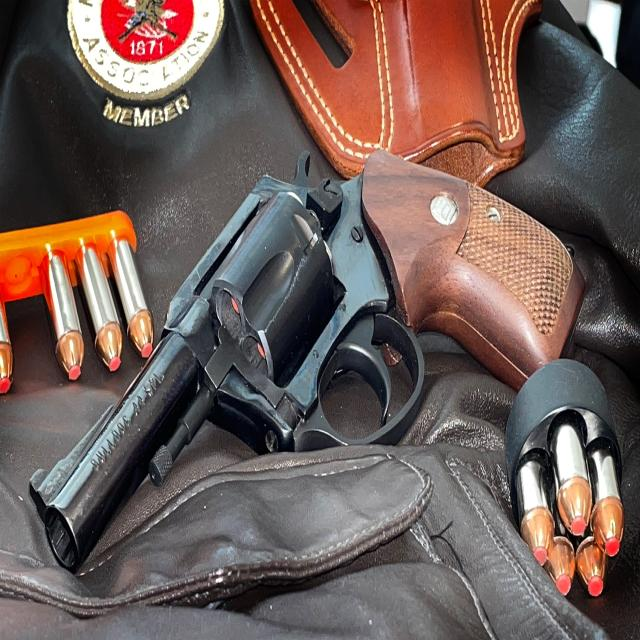Gun: (25, 140, 617, 590)
